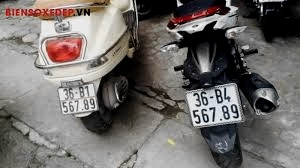Bien-so: (186, 88, 244, 134), (56, 88, 99, 122)
